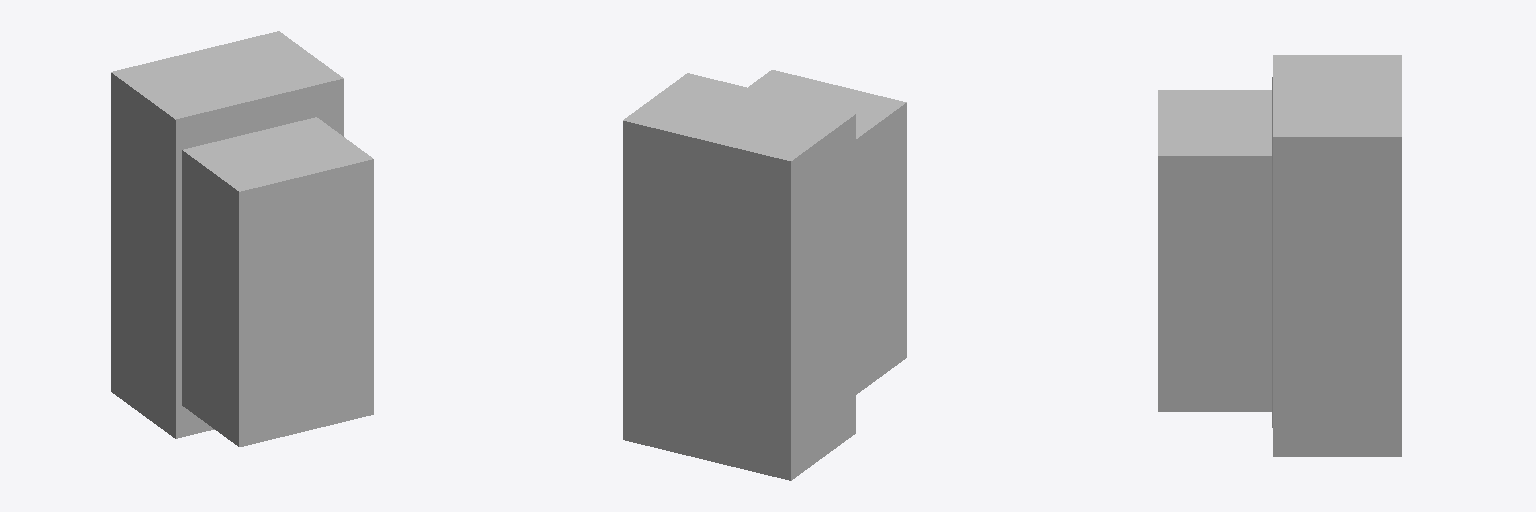
The model's file is buildings009 (249).obj.
3 views of the same model, side by side, from view 1: azimuth 30°, elevation 25°; view 2: azimuth 150°, elevation 25°; view 3: azimuth 270°, elevation 25° (orthographic).
Visible parts, largest first — view 1: buildings009 (249); view 2: buildings009 (249); view 3: buildings009 (249).
Boxes of the visible parts, box(x1,y1,x2,y2) form: buildings009 (249): box(111, 31, 373, 446); buildings009 (249): box(623, 70, 906, 480); buildings009 (249): box(1158, 55, 1401, 456).
Bounding box in the file's own units: 4.15 × 7.52 × 5.21.